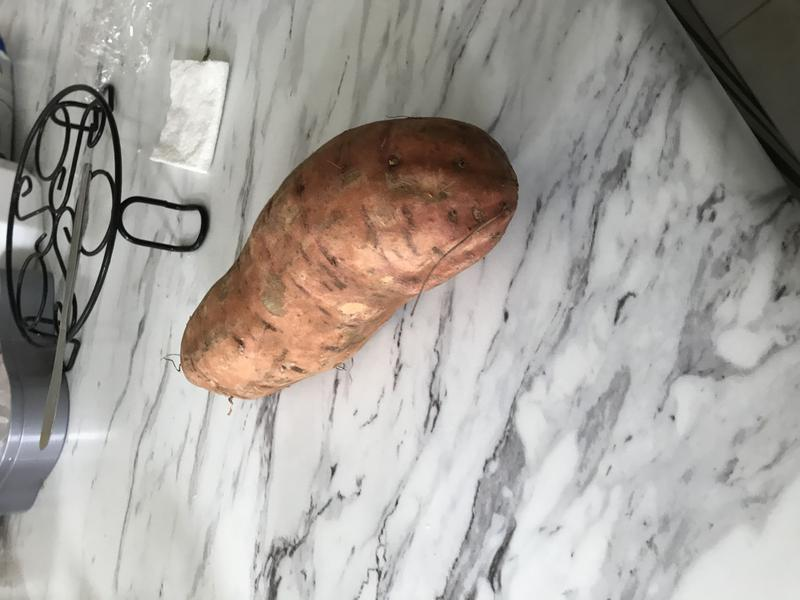sweet_potato: (163, 102, 533, 415)
